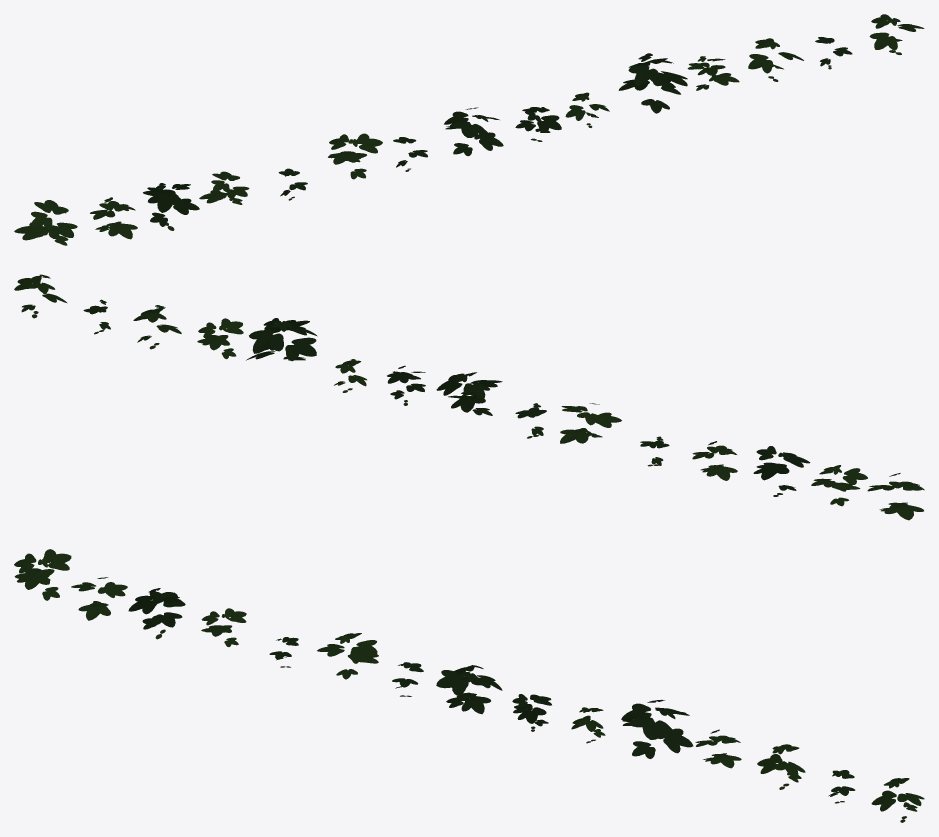
File: ROW_09_SEG2_foliage.dae
3 views of the same model, one above another, from view 1: azimuth 30°, elevation 25°; view 2: azimuth 150°, elevation 25°; view 3: azimuth 330°, elevation 25° (orthographic). The views are drawn at different scales.
Visible parts, largest first — view 1: ROW_09_SEG2_foliage; view 2: ROW_09_SEG2_foliage; view 3: ROW_09_SEG2_foliage.
Boxes of the visible parts, x1,y1,x2,y2 form: ROW_09_SEG2_foliage: (14, 14, 924, 245); ROW_09_SEG2_foliage: (14, 274, 924, 520); ROW_09_SEG2_foliage: (14, 549, 924, 822).
Size of the model in its own units: 4.52 by 0.3373 by 0.266.
